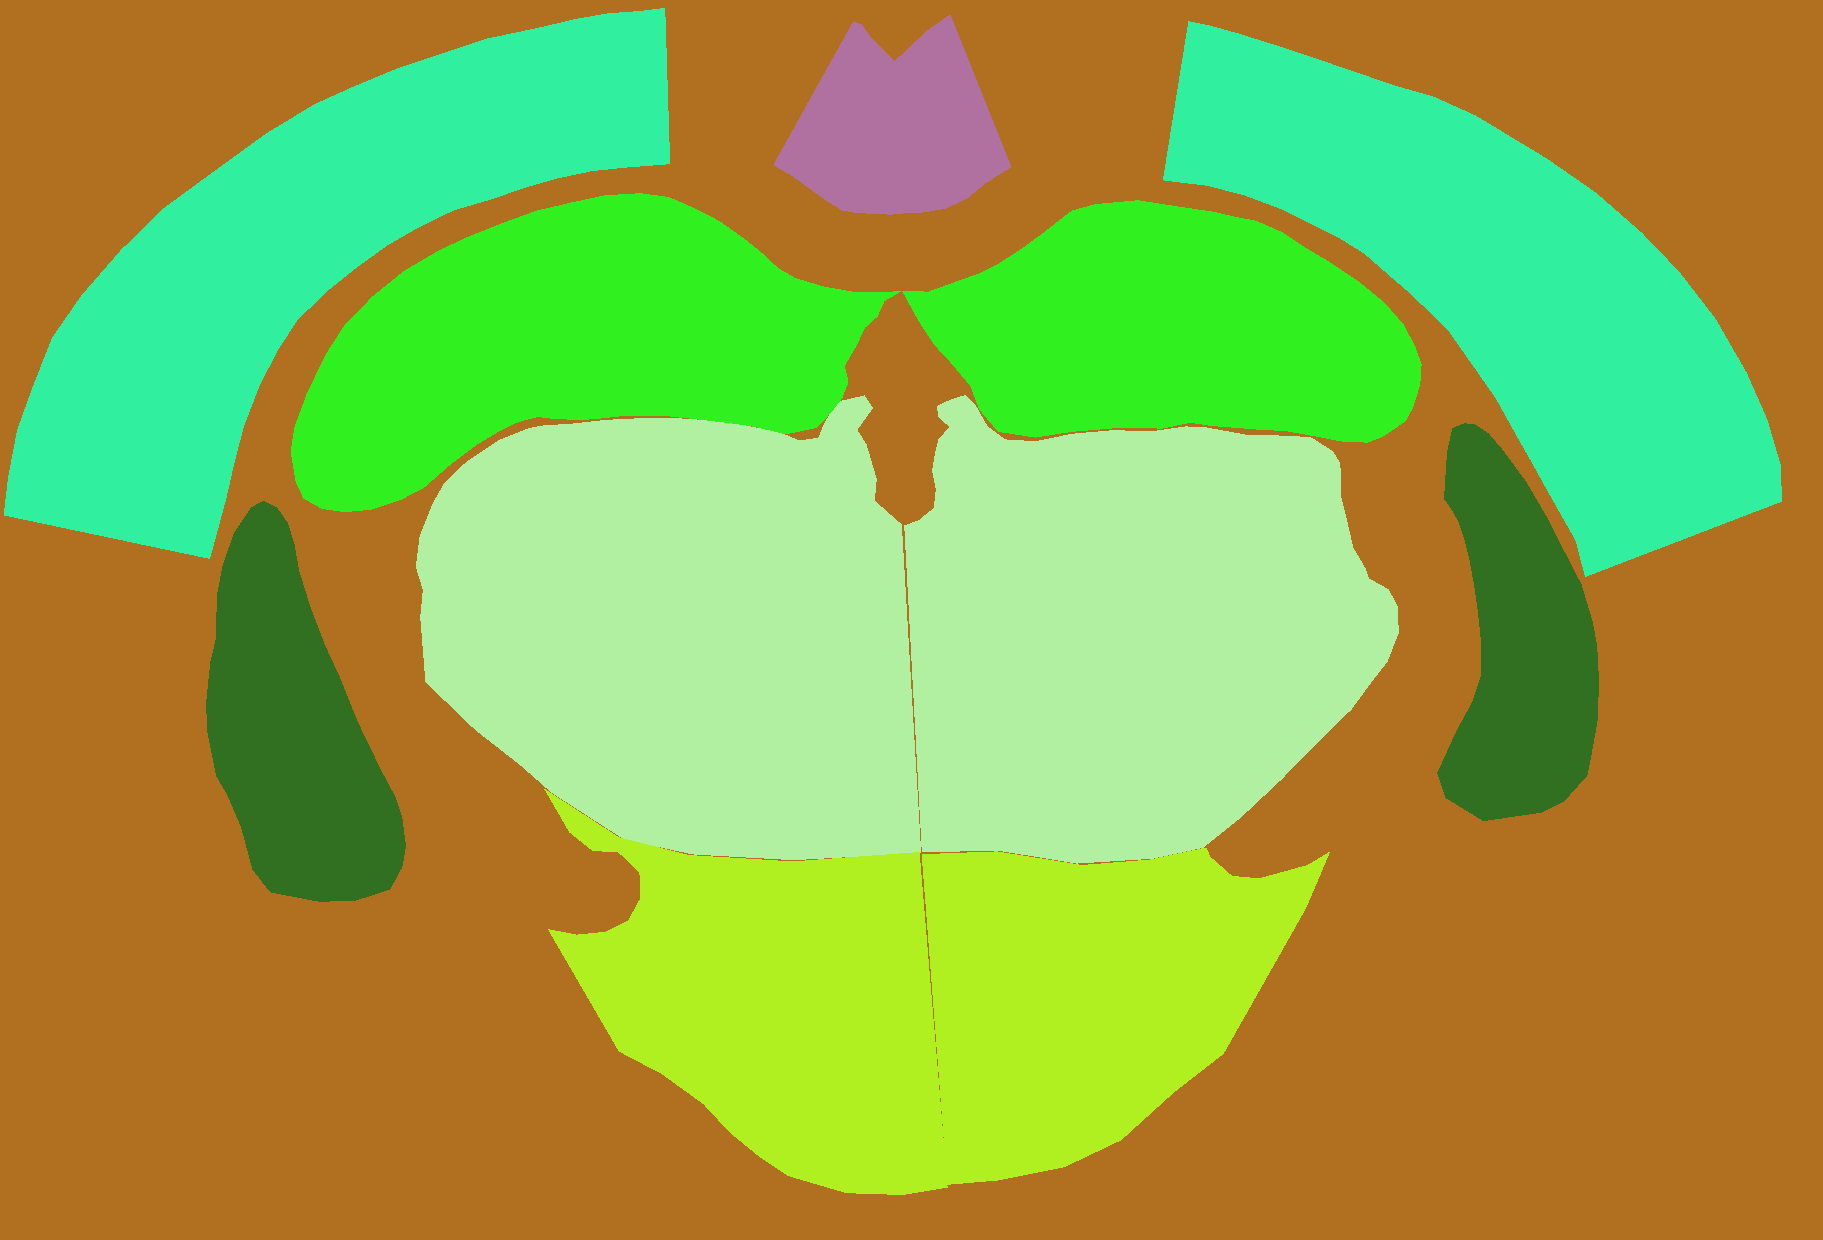Cerebral nuclei: (206, 501, 406, 902), (1437, 423, 1599, 821)
Hippocampal formation: (291, 192, 903, 512), (903, 201, 1422, 441)
Hypothalamus: (544, 787, 948, 1194), (922, 847, 1332, 1185)
Retrosplenial area: (772, 21, 896, 215), (893, 14, 1010, 215)
Somatosensory area: (4, 8, 671, 559), (1163, 21, 1781, 577)
Thalamus: (417, 394, 920, 859), (904, 394, 1398, 864)
